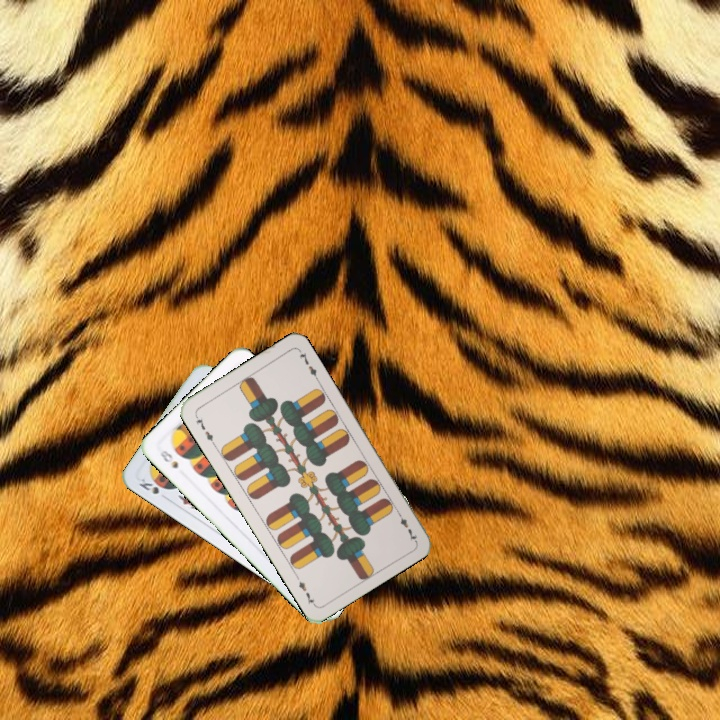E7: (393, 507, 420, 544), (191, 410, 217, 447)
S8: (156, 446, 181, 471)
SK: (135, 474, 162, 497)
